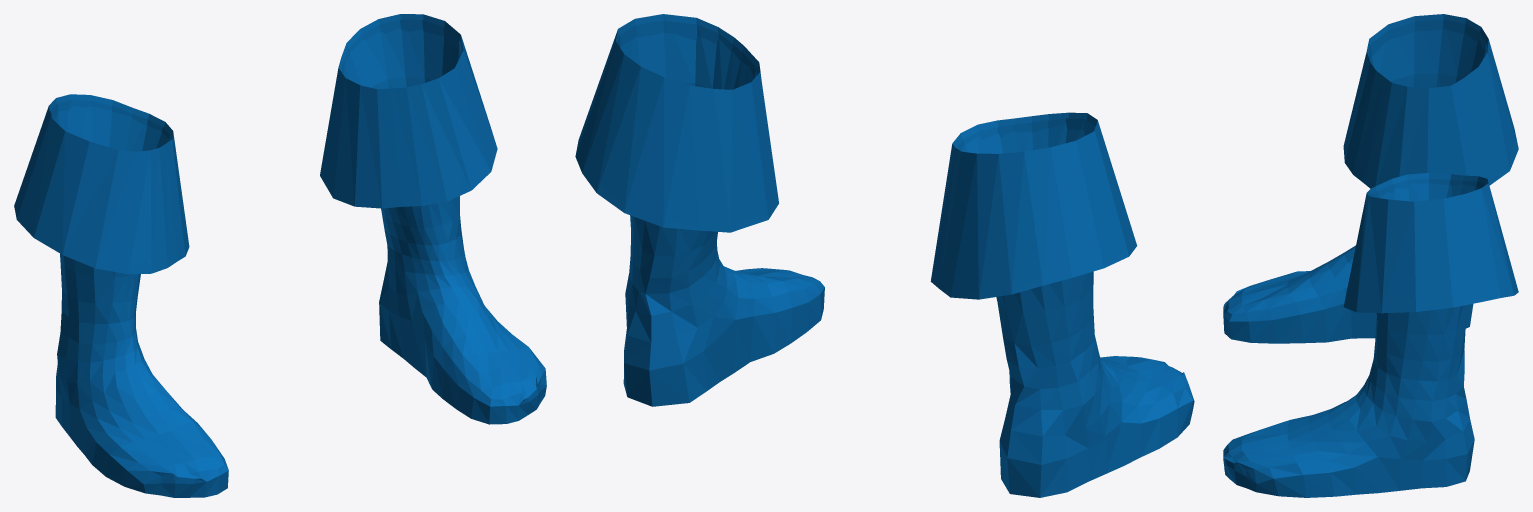
File: mhw_culturalibre_hero_boots_4.glb
The picture shows the model from 3 angles, left to right: view 1: azimuth 30°, elevation 25°; view 2: azimuth 150°, elevation 25°; view 3: azimuth 270°, elevation 25°; orthographic projection. The views are drawn at different scales.
Parts seen in each view (by area): view 1: mhw_culturalibre_hero_boots_4; view 2: mhw_culturalibre_hero_boots_4; view 3: mhw_culturalibre_hero_boots_4.
Part boxes in pixels (x1,y1,x2,y2): mhw_culturalibre_hero_boots_4: (14,14,546,497); mhw_culturalibre_hero_boots_4: (575,14,1194,497); mhw_culturalibre_hero_boots_4: (1223,14,1518,497).
Size of the model in its own units: 0.5866 by 0.3774 by 0.3423.
Materials: 1 (1 with a texture image).
